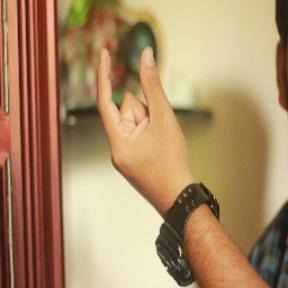U: (94, 39, 178, 173)
